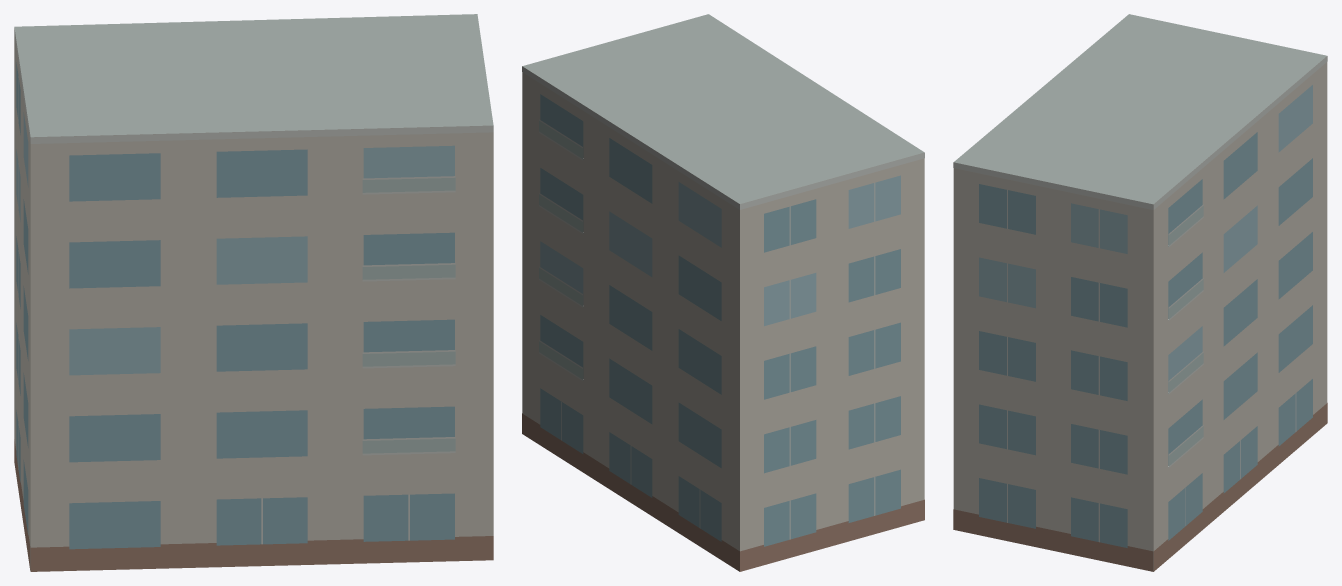
File: survey-upis-33028363.glb
3 renders of one model, left to right at view 1: azimuth 30°, elevation 25°; view 2: azimuth 150°, elevation 25°; view 3: azimuth 270°, elevation 25°, orthographic. The views are drawn at different scales.
Parts seen in each view (by area): view 1: survey-upis-33028363.tmp; view 2: survey-upis-33028363.tmp; view 3: survey-upis-33028363.tmp.
Boxes of the visible parts, x1=… form: survey-upis-33028363.tmp: x1=14, y1=14, x2=493, y2=571; survey-upis-33028363.tmp: x1=522, y1=14, x2=924, y2=571; survey-upis-33028363.tmp: x1=953, y1=14, x2=1327, y2=571.
Bounding box in the file's own units: 17.18 × 15.46 × 14.26.
